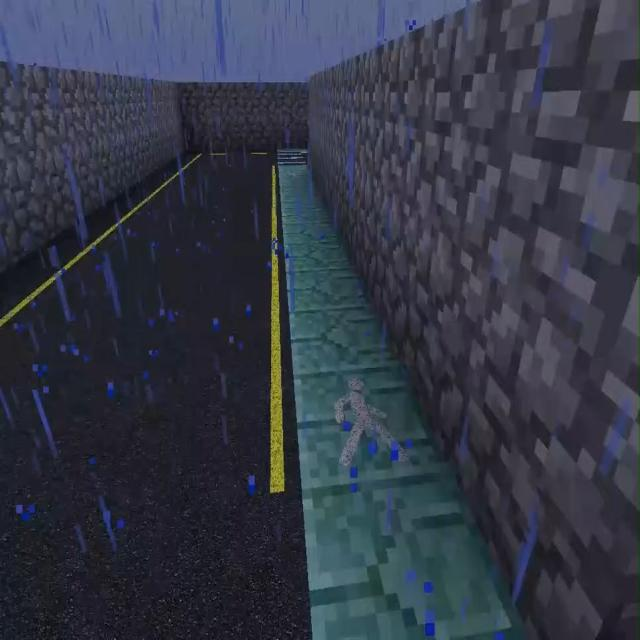8: (278, 153, 307, 166)
crosswalk: (0, 150, 313, 639)
road: (280, 167, 534, 639), (277, 147, 308, 151)
